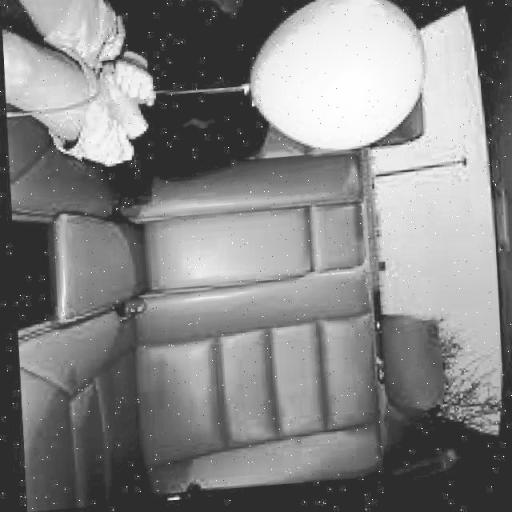balloon: (247, 0, 432, 161)
